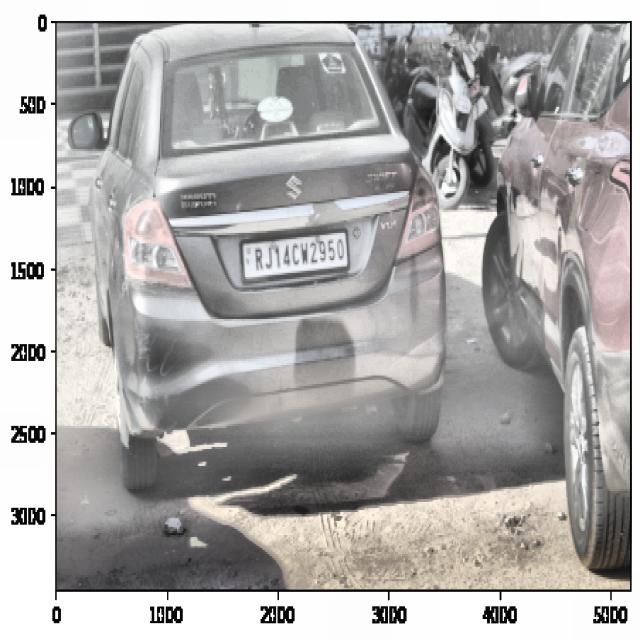license_plate: (251, 234, 350, 277)
